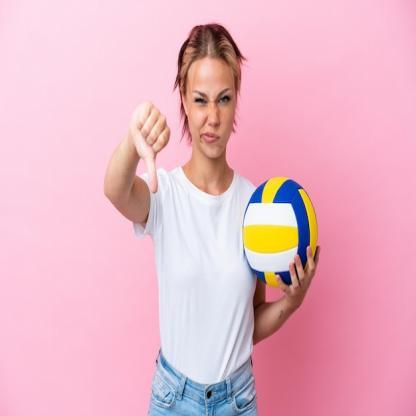thumb_down: (126, 96, 172, 197)
